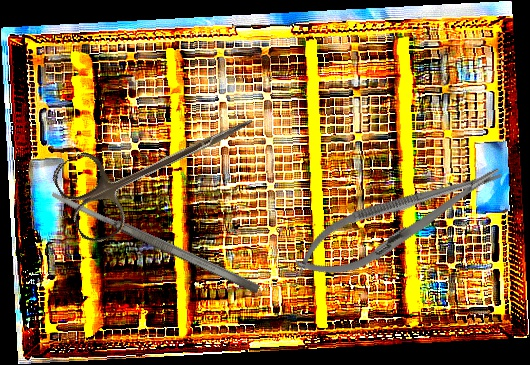Iris Scissors: (48, 77, 270, 249)
Needle Holder: (286, 148, 513, 293)
Spatula Surgical: (49, 187, 262, 296)
